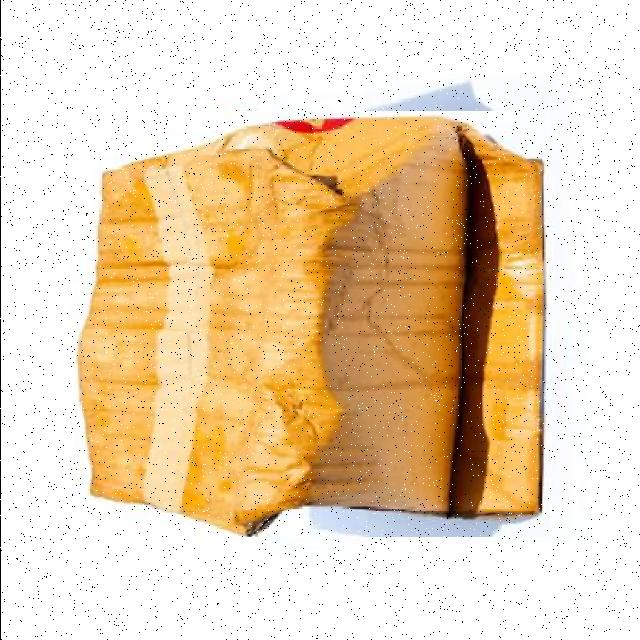defect: (74, 111, 549, 537)
